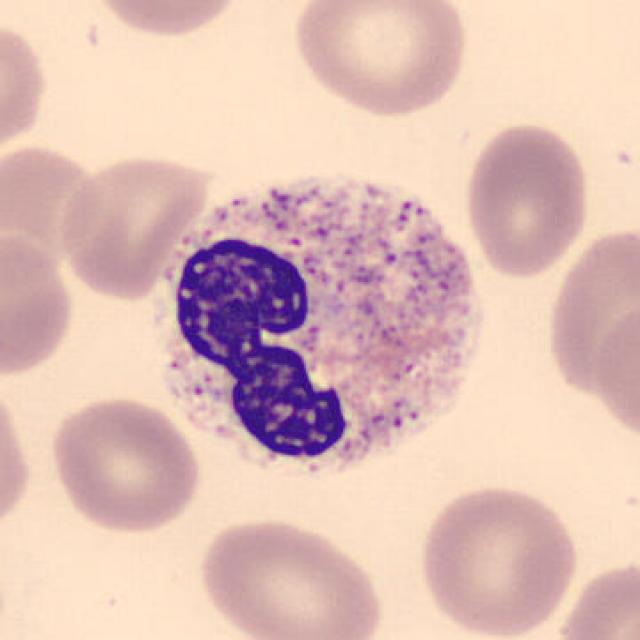Neutrophil: (140, 158, 496, 501)
RBC: (412, 480, 582, 638), (192, 513, 389, 640), (55, 150, 213, 301), (44, 393, 204, 536), (286, 0, 475, 120), (460, 118, 594, 282), (542, 220, 636, 406), (0, 137, 107, 284), (0, 226, 78, 381), (590, 294, 640, 452), (0, 15, 53, 160), (551, 553, 638, 640), (87, 0, 249, 41), (0, 379, 36, 541)
